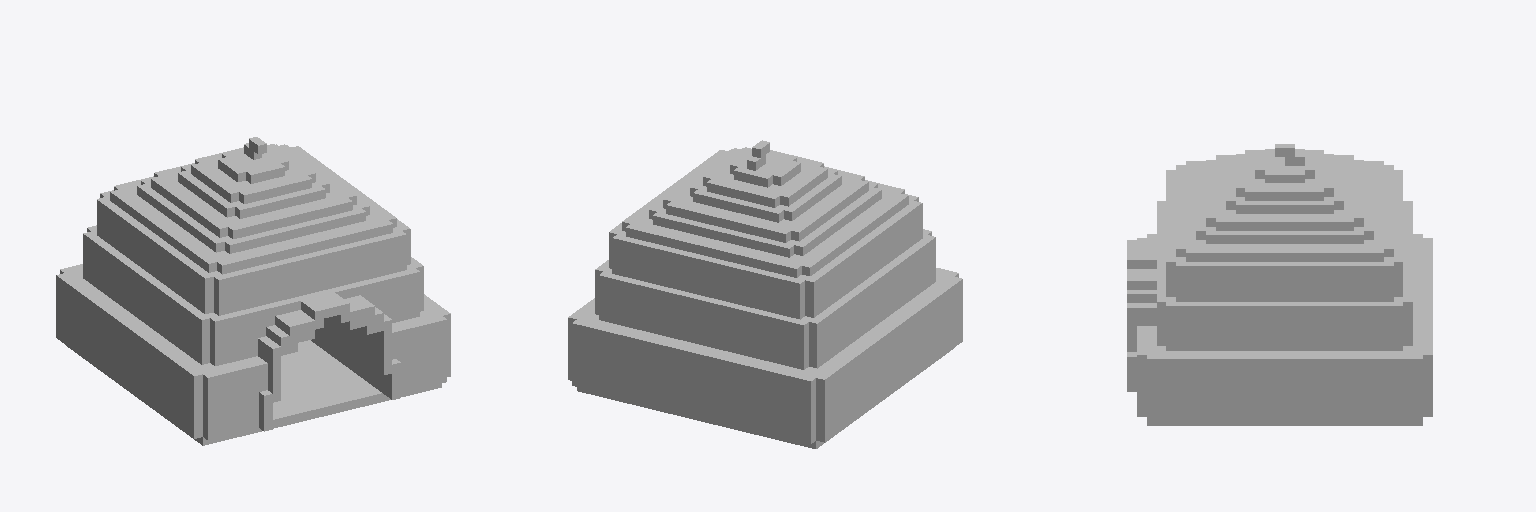
The model's file is cat bed.obj.
The picture shows the model from 3 angles: view 1: azimuth 30°, elevation 25°; view 2: azimuth 150°, elevation 25°; view 3: azimuth 270°, elevation 25°; orthographic projection.
Visible parts, largest first — view 1: cat bed; view 2: cat bed; view 3: cat bed.
Part boxes in pixels (x1,y1,x2,y2): cat bed: (56,137,450,445); cat bed: (568,140,962,448); cat bed: (1127,144,1432,425).
Size of the model in its own units: 30 by 25 by 31.